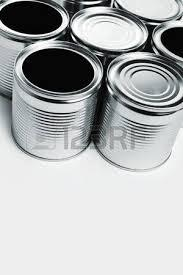Tin: (0, 0, 183, 174)
